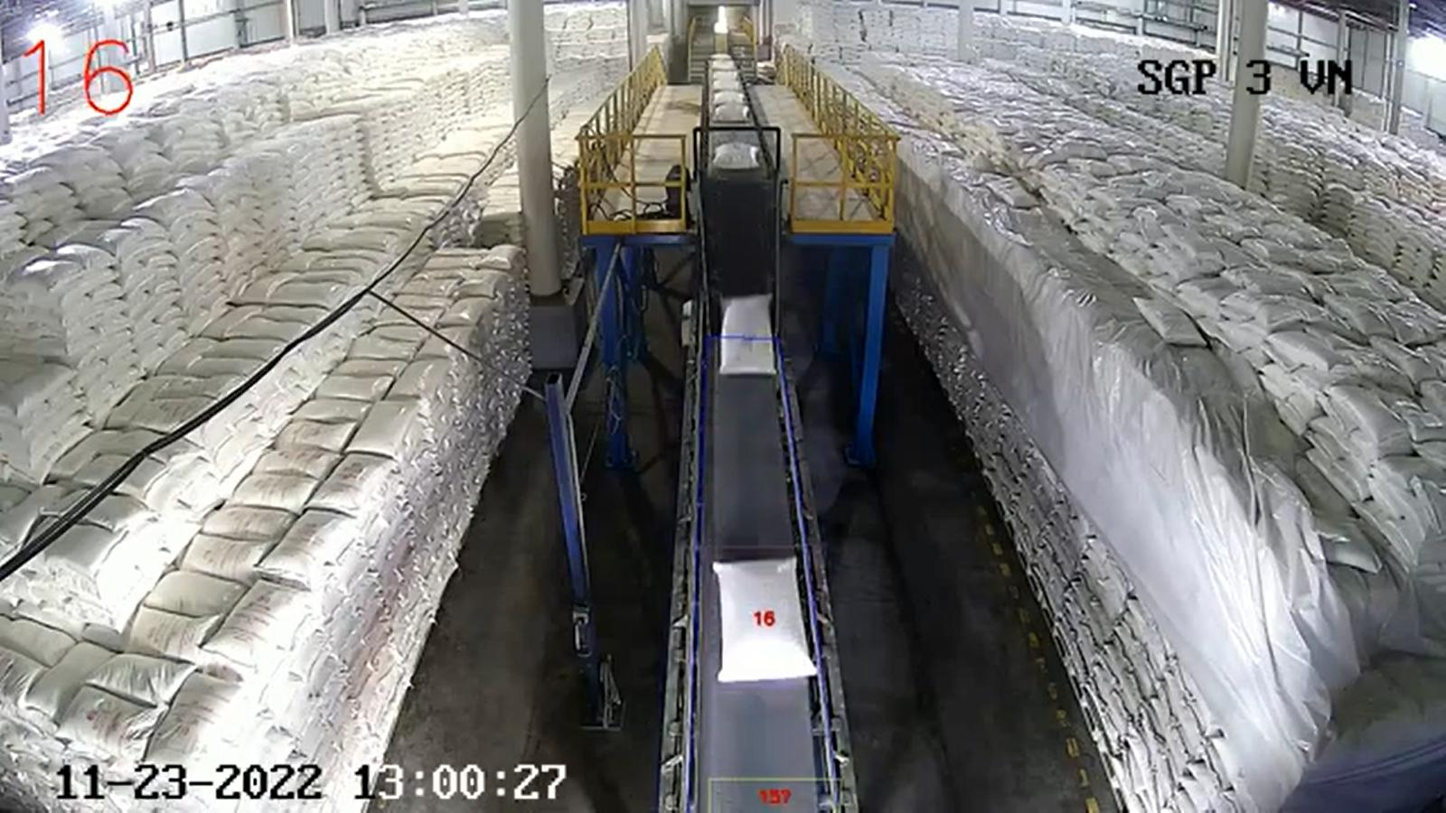rice-bag: (712, 556, 816, 682), (717, 295, 776, 372)
